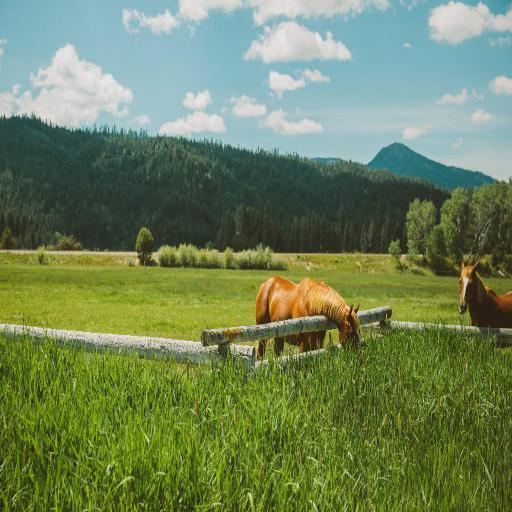horse: (254, 275, 364, 369), (456, 260, 512, 350)
